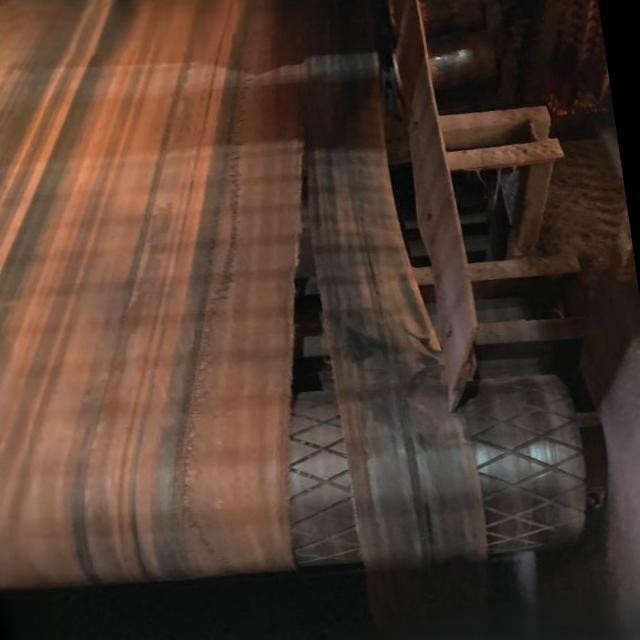Tear: (280, 95, 376, 570)
